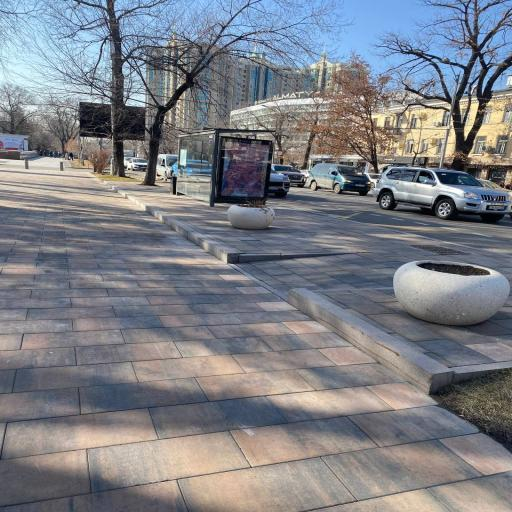book: (176, 129, 273, 206)
bottle: (375, 167, 511, 221), (308, 164, 370, 195)
construction_fence: (107, 182, 349, 263)
shelf: (0, 168, 511, 512)
